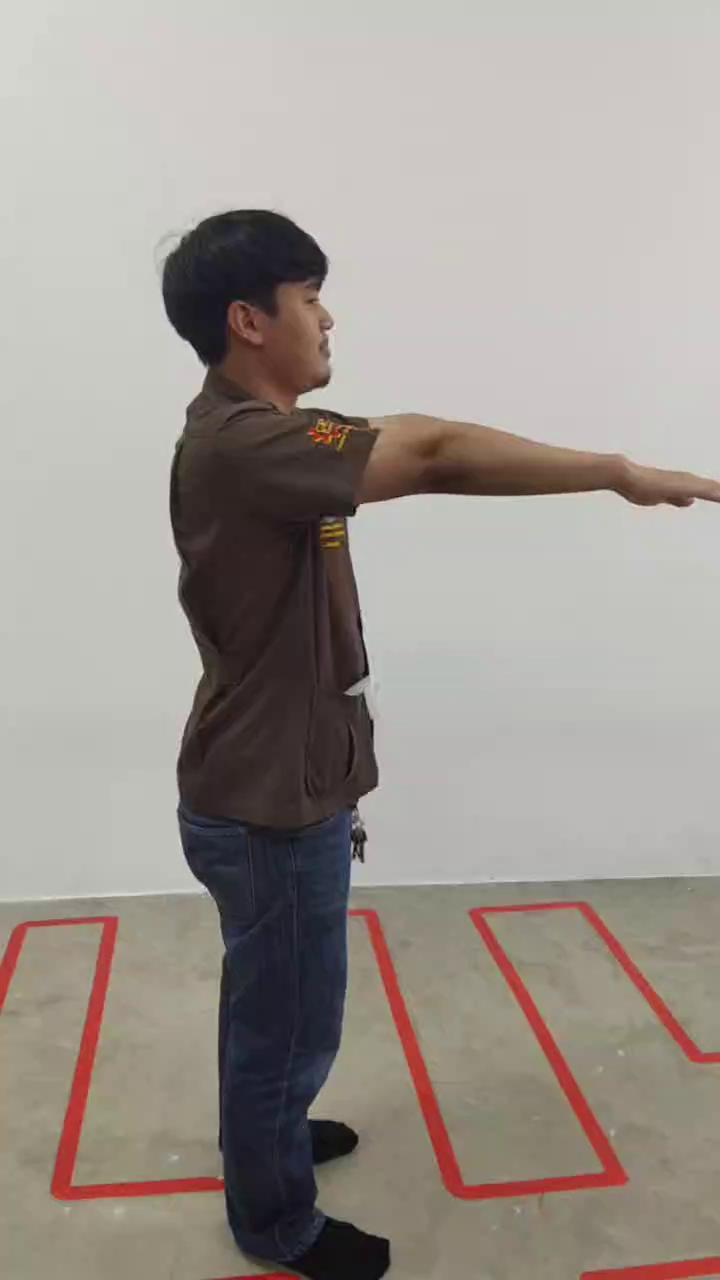squat up: (162, 210, 718, 1280)
